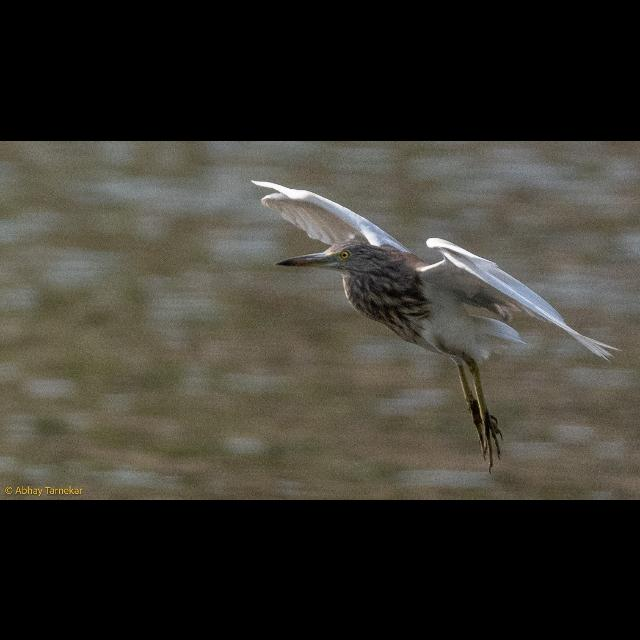heron: (252, 179, 606, 465)
